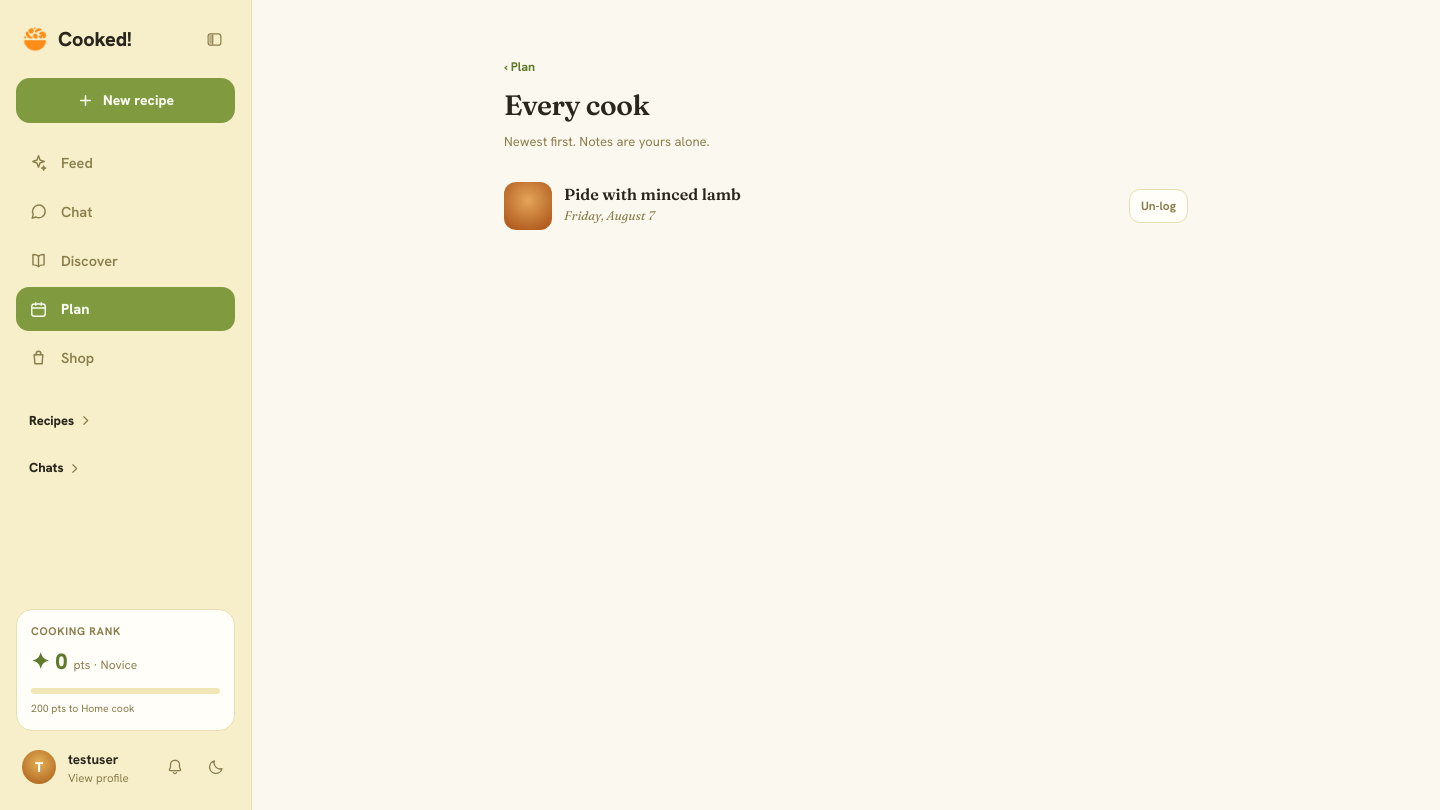
Test: /plan/cooks › un-logging one cook › removes a cook that carries no note without asking first
What coordinates should you click on to do the following:
click the button with aria-label "Un-log Pide"
I would click on:
 (1158, 206)
Its box is [1129, 188, 1188, 222].
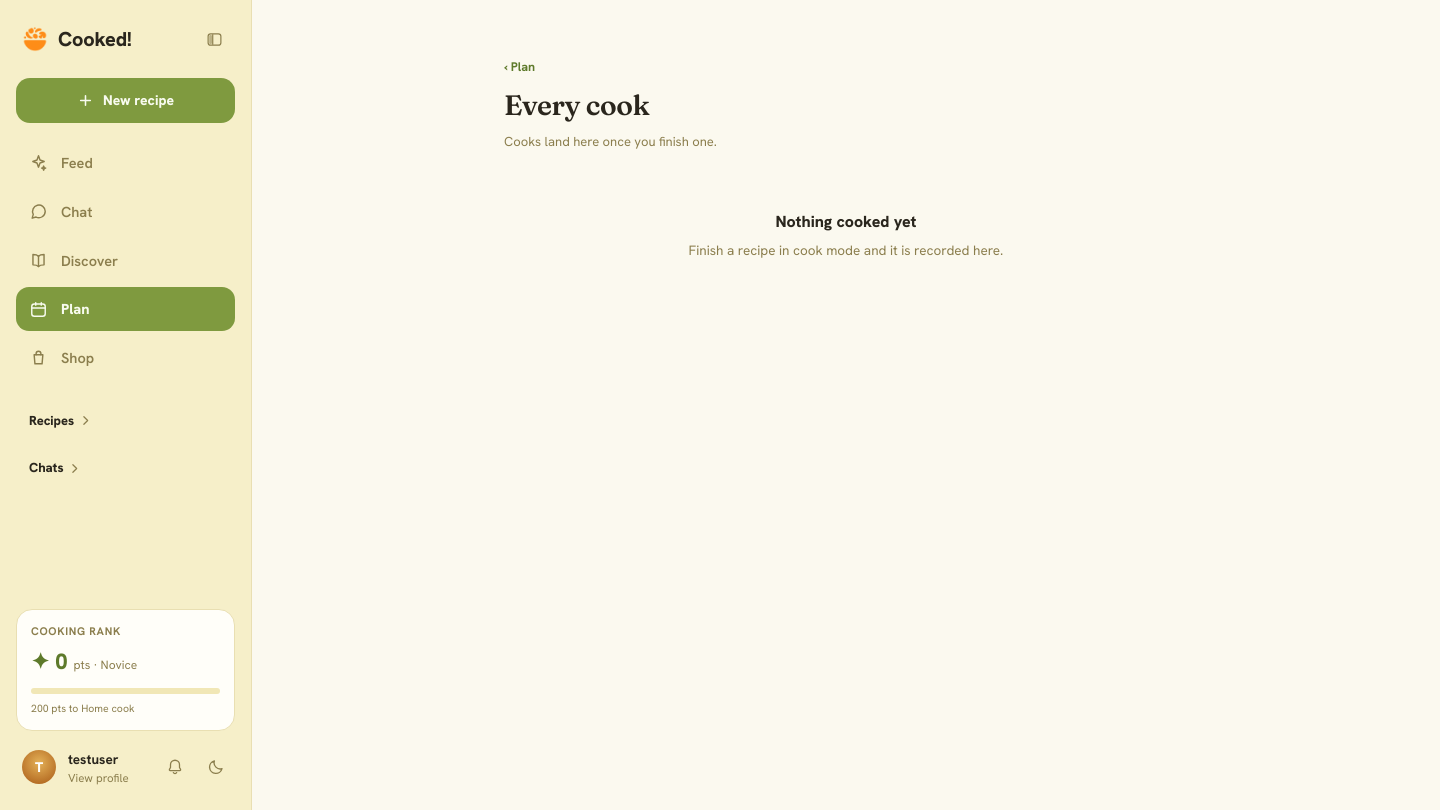
expect the text "Nothing cooked yet" is shown: met, box [775, 210, 917, 232]
